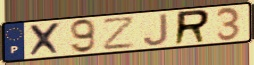3: (214, 6, 242, 43)
9: (68, 18, 97, 54)
J: (141, 12, 170, 47)
R: (172, 8, 212, 47)
X: (28, 21, 64, 58)
Z: (102, 15, 137, 52)
